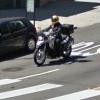Motorcycle: (31, 24, 77, 71)
